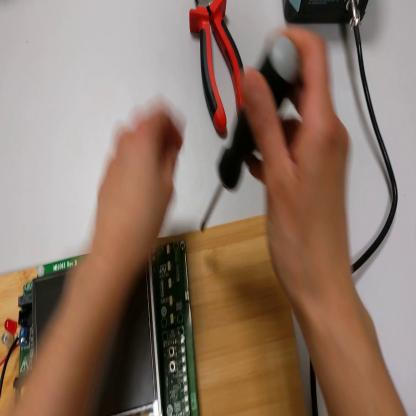hand: (245, 24, 352, 307), (92, 101, 188, 267)
low voltage board: (1, 241, 201, 416)
pliers: (191, 1, 248, 135)
screwdriver-: (202, 31, 298, 230)
welder station: (285, 2, 371, 30)
working area: (1, 216, 307, 416)
